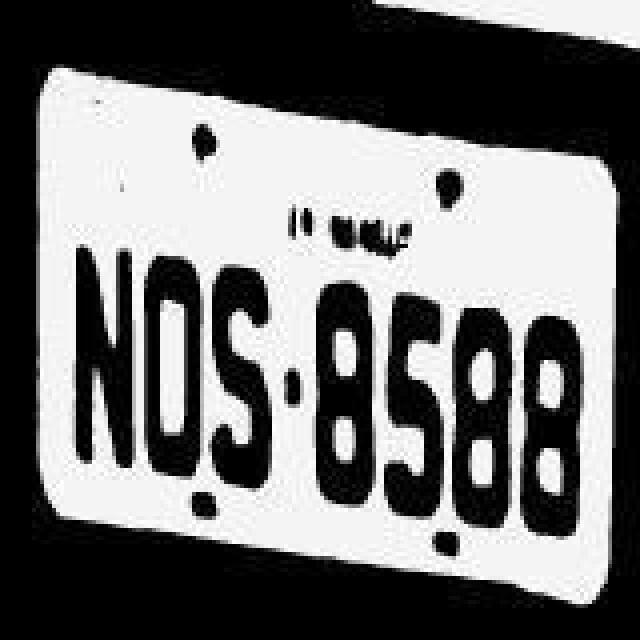5: (380, 288, 452, 528)
8: (514, 296, 590, 552), (306, 272, 382, 520), (444, 286, 516, 530)
N: (62, 224, 138, 480)
O: (132, 238, 204, 482)
S: (202, 248, 286, 488)
